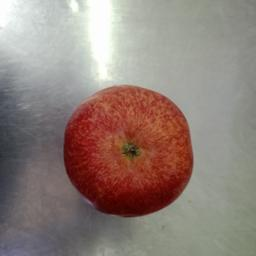Apple Fresh: (58, 74, 199, 223)
